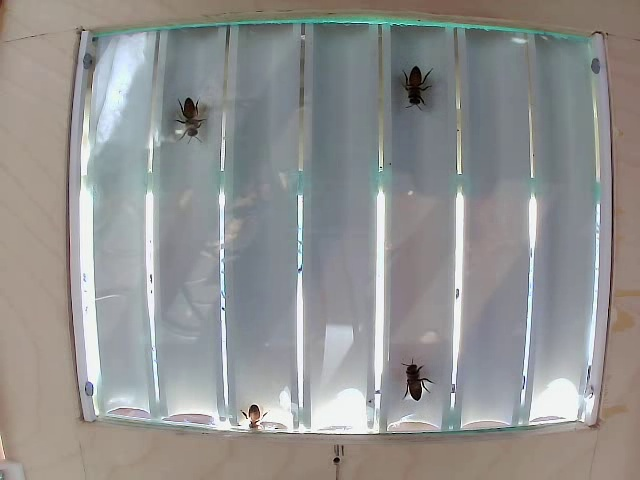bee: (170, 94, 217, 145), (391, 58, 425, 109)
